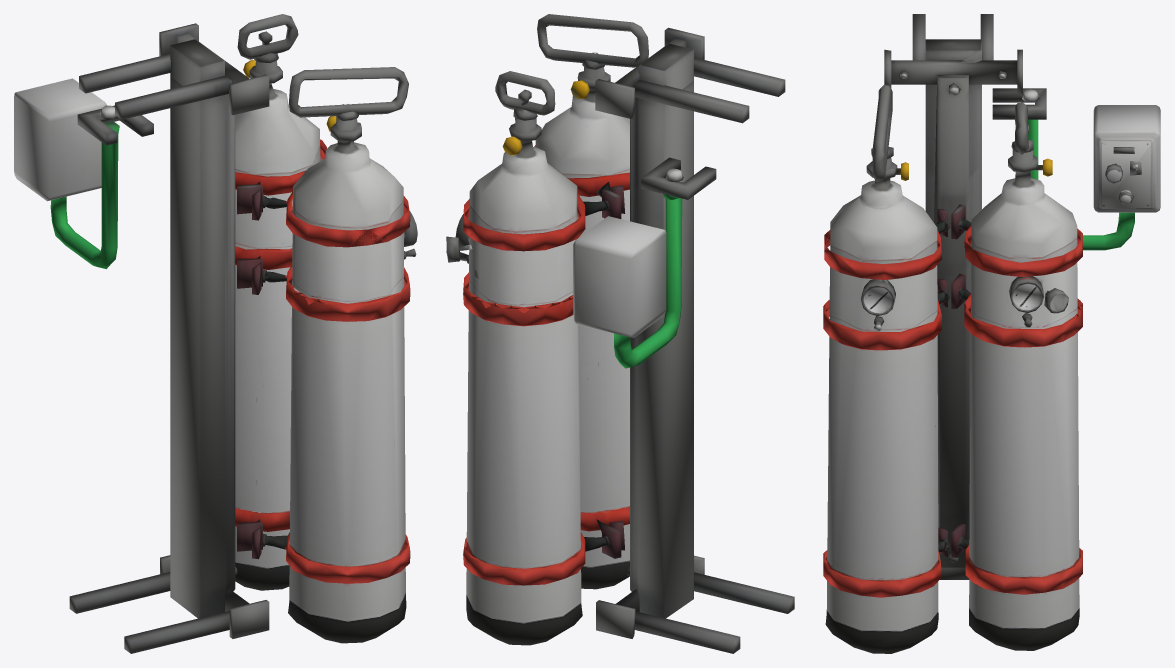
The model's file is oxygen_tank_station.glb.
3 renders of one model, left to right at view 1: azimuth 30°, elevation 25°; view 2: azimuth 150°, elevation 25°; view 3: azimuth 270°, elevation 25°, orthographic. The views are drawn at different scales.
Visible parts, largest first — view 1: tripo_node_085b99f0-f984-48e3-9789-c9942e0d962e; view 2: tripo_node_085b99f0-f984-48e3-9789-c9942e0d962e; view 3: tripo_node_085b99f0-f984-48e3-9789-c9942e0d962e.
Boxes of the visible parts, left/top/right/bottom form: tripo_node_085b99f0-f984-48e3-9789-c9942e0d962e: left=14, top=14, right=417, bottom=653; tripo_node_085b99f0-f984-48e3-9789-c9942e0d962e: left=446, top=14, right=794, bottom=653; tripo_node_085b99f0-f984-48e3-9789-c9942e0d962e: left=823, top=14, right=1160, bottom=653.
Size of the model in its own units: 0.5988 by 1.2 by 0.674.
1 material, 1 textured.
